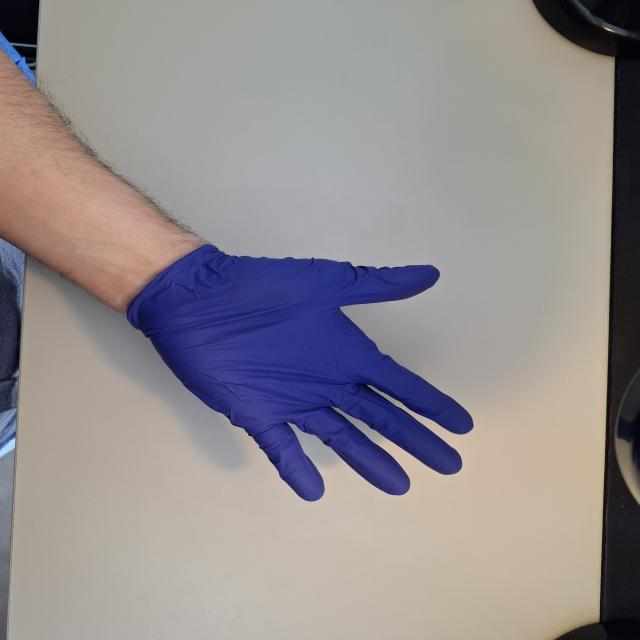glove_on: (124, 250, 479, 503)
